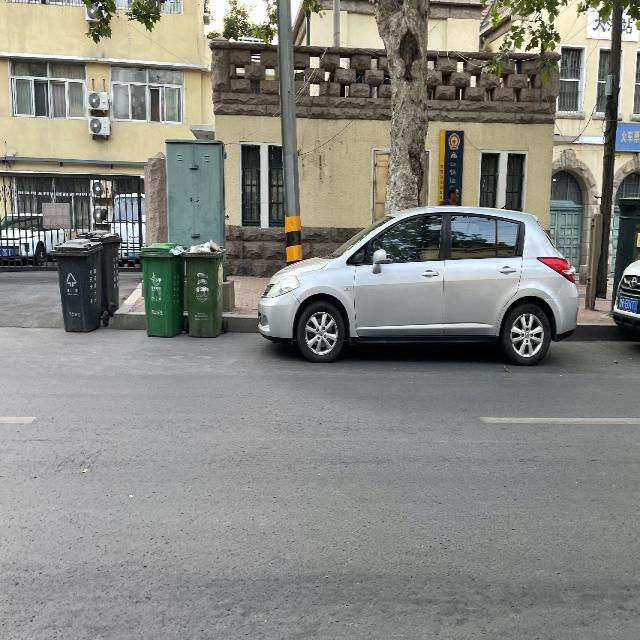garbage_bin: (50, 237, 102, 332), (75, 231, 122, 314)
overflow: (137, 240, 185, 337), (182, 239, 227, 337)
